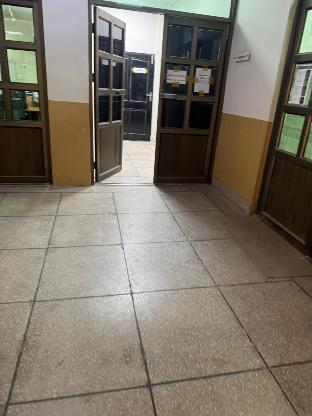door: (84, 0, 224, 199)
